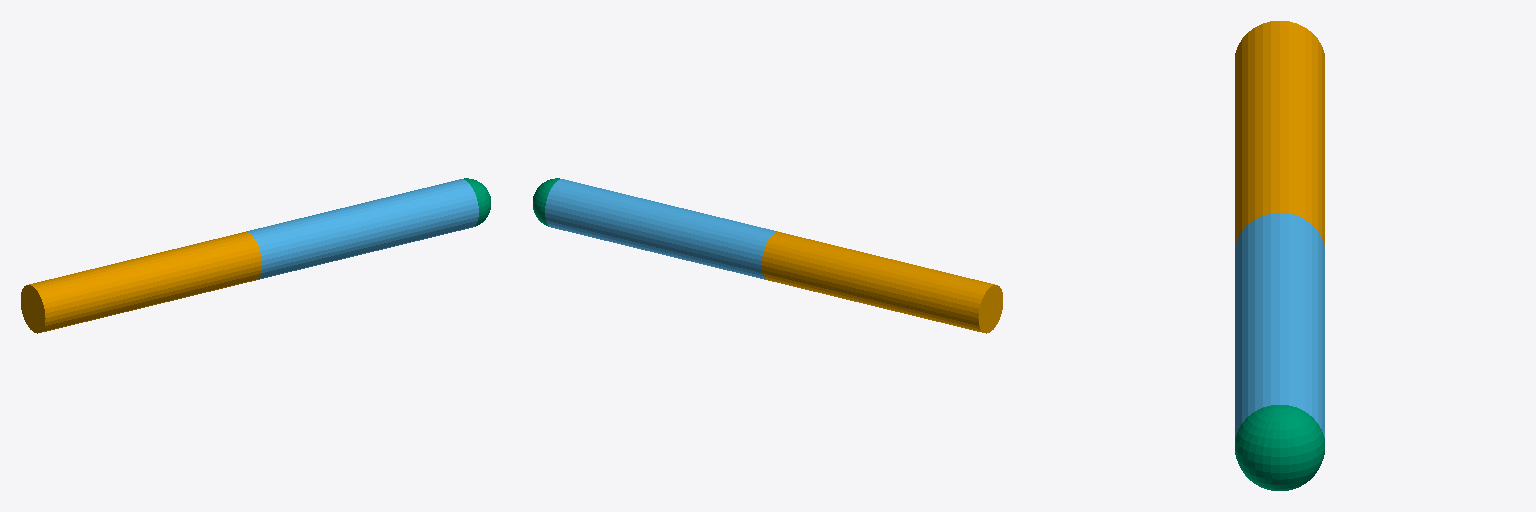
The robot description file, URDF, robot "myfirst":
<?xml version="1.0"?>
<robot name="myfirst">
  <link name="link_0">
    <visual>
      <origin rpy="0 -1.5707 0" xyz="0.5 0 0"/>
      <geometry>
        <cylinder length="1" radius="0.1"/>
      </geometry>
    </visual>
    <collision>
      <origin rpy="0 -1.5707 0" xyz="0.5 0 0"/>
      <geometry>
        <box size="0.2 0.2 1"/>
      </geometry>
    </collision>
    <inertial>
      <mass value="10"/>
      <!-- 1/3*m*l^2 = 1/3*10*1^2 = 10/3 -->
      <inertia ixx="3.333" ixy="0" ixz="0" iyy="0" iyz="0" izz="3.333"/>
      <origin rpy="0 0 0" xyz="0.5 0 0"/>
    </inertial>
  </link>
  <link name="link_1">
    <visual>
      <origin rpy="0 -1.5707 0" xyz="0.5 0 0"/>
      <geometry>
        <cylinder length="1" radius="0.1"/>
      </geometry>
    </visual>
    <collision>
      <origin rpy="0 -1.5707 0" xyz="0.5 0 0"/>
      <geometry>
        <box size="0.2 0.2 1"/>
      </geometry>
    </collision>
    <inertial>
      <mass value="10"/>
      <!-- 1/3*m*l^2 = 1/3*10*1^2 = 10/3 -->
      <inertia ixx="3.333" ixy="0" ixz="0" iyy="0" iyz="0" izz="3.333"/>
      <origin rpy="0 0 0" xyz="0.5 0 0"/>
    </inertial>
  </link>
  <link name="head">
    <visual>
      <origin rpy="0 0 0" xyz="0 0 0"/>
      <geometry>
        <sphere radius="0.1"/>
      </geometry>
    </visual>
    <collision>
      <origin rpy="0 0 0" xyz="0 0 0"/>
      <geometry>
        <box size="0.2 0.2 0.2"/>
      </geometry>
    </collision>
    <inertial>
      <mass value="0.1"/>
      <origin rpy="0 0 0" xyz="0 0 0"/>
      <inertia ixx="0.0004" ixy="0" ixz="0" iyy="0.0004" iyz="0" izz="0.004"/>
    </inertial>
  </link>
  <joint name="joint" type="revolute">
    <parent link="link_0"/>
    <child link="link_1"/>
    <origin xyz="1 0 0"/>
    <axis xyz="0 0 1"/>
    <limit lower="-2" upper="2" effort="10" velocity="1"/>
    <dynamics damping="5.0" friction="0.0"/>
  </joint>
  <joint name="head_joint" type="revolute">
    <parent link="link_1"/>
    <child link="head"/>
    <origin xyz="1 0 0"/>
    <axis xyz="0 0 1"/>
    <limit lower="-2" upper="2" effort="10" velocity="1"/>
    <dynamics damping="5.0" friction="0.0"/>
  </joint>
  <gazebo reference="link_0">
    <mu1>0.4</mu1>
    <mu2>0.4</mu2>
    <material>Gazebo/Gray</material>
  </gazebo>
  <gazebo reference="link_1">
    <mu1>0.4</mu1>
    <mu2>0.4</mu2>
    <material>Gazebo/Green</material>
  </gazebo>
  <gazebo reference="head">
    <mu1>0.4</mu1>
    <mu2>0.4</mu2>
    <material>Gazebo/Blue</material>
  </gazebo>
</robot>

--- Render facts (derived) ---
Views: 3 orthographic renders of the robot side by side, from view 1: azimuth 30°, elevation 25°; view 2: azimuth 150°, elevation 25°; view 3: azimuth 270°, elevation 25°.
Model myfirst with 3 links and 2 joints (2 revolute), rooted at link_0, posed all joints at 0.
Visible links, largest first — view 1: link_0, link_1, head; view 2: link_0, link_1, head; view 3: link_0, link_1, head.
Link boxes in pixels (box(x1,y1,x2,y2)): link_0: box(21, 232, 261, 333); link_1: box(246, 179, 478, 279); head: box(464, 178, 490, 226); link_0: box(762, 232, 1002, 333); link_1: box(545, 179, 777, 279); head: box(533, 178, 559, 226); link_0: box(1235, 21, 1324, 245); link_1: box(1235, 213, 1324, 437); head: box(1235, 405, 1324, 490).
Size in the robot's own frame: 2.1 by 0.2 by 0.2001 metres.
Geometry: primitives only (box / cylinder / sphere), no mesh files.
